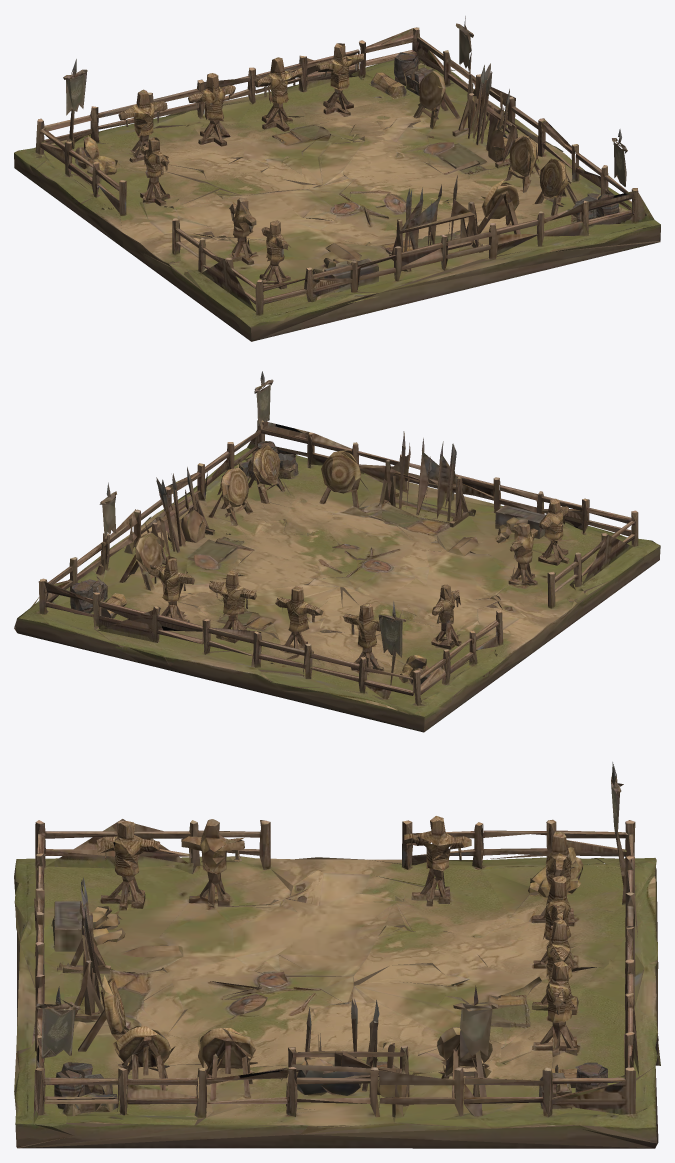
Rendered from training-ground.glb.
3 renders of one model, top to bottom at view 1: azimuth 30°, elevation 25°; view 2: azimuth 150°, elevation 25°; view 3: azimuth 270°, elevation 25°, orthographic. The views are drawn at different scales.
Visible parts, largest first — view 1: output_unwrapped; view 2: output_unwrapped; view 3: output_unwrapped.
Boxes of the visible parts, left/top/right/bottom form: output_unwrapped: left=14, top=16, right=660, bottom=341; output_unwrapped: left=14, top=371, right=660, bottom=732; output_unwrapped: left=14, top=762, right=660, bottom=1148.
Size of the model in its own units: 16.06 by 4.07 by 16.07.
1 material, 1 textured.
